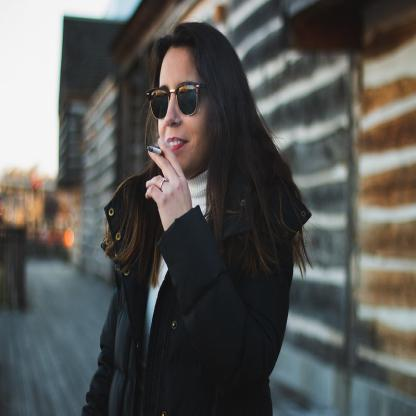smoking: (147, 146, 168, 155)
